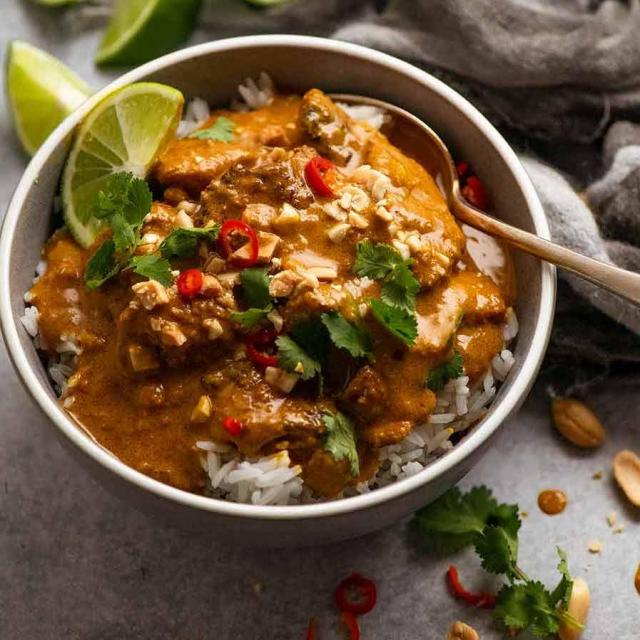chicken: (36, 76, 516, 482)
